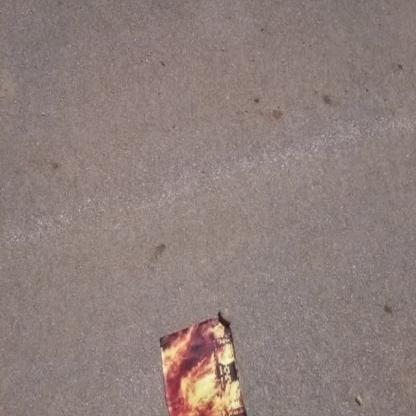fire-poster: (157, 309, 250, 415)
